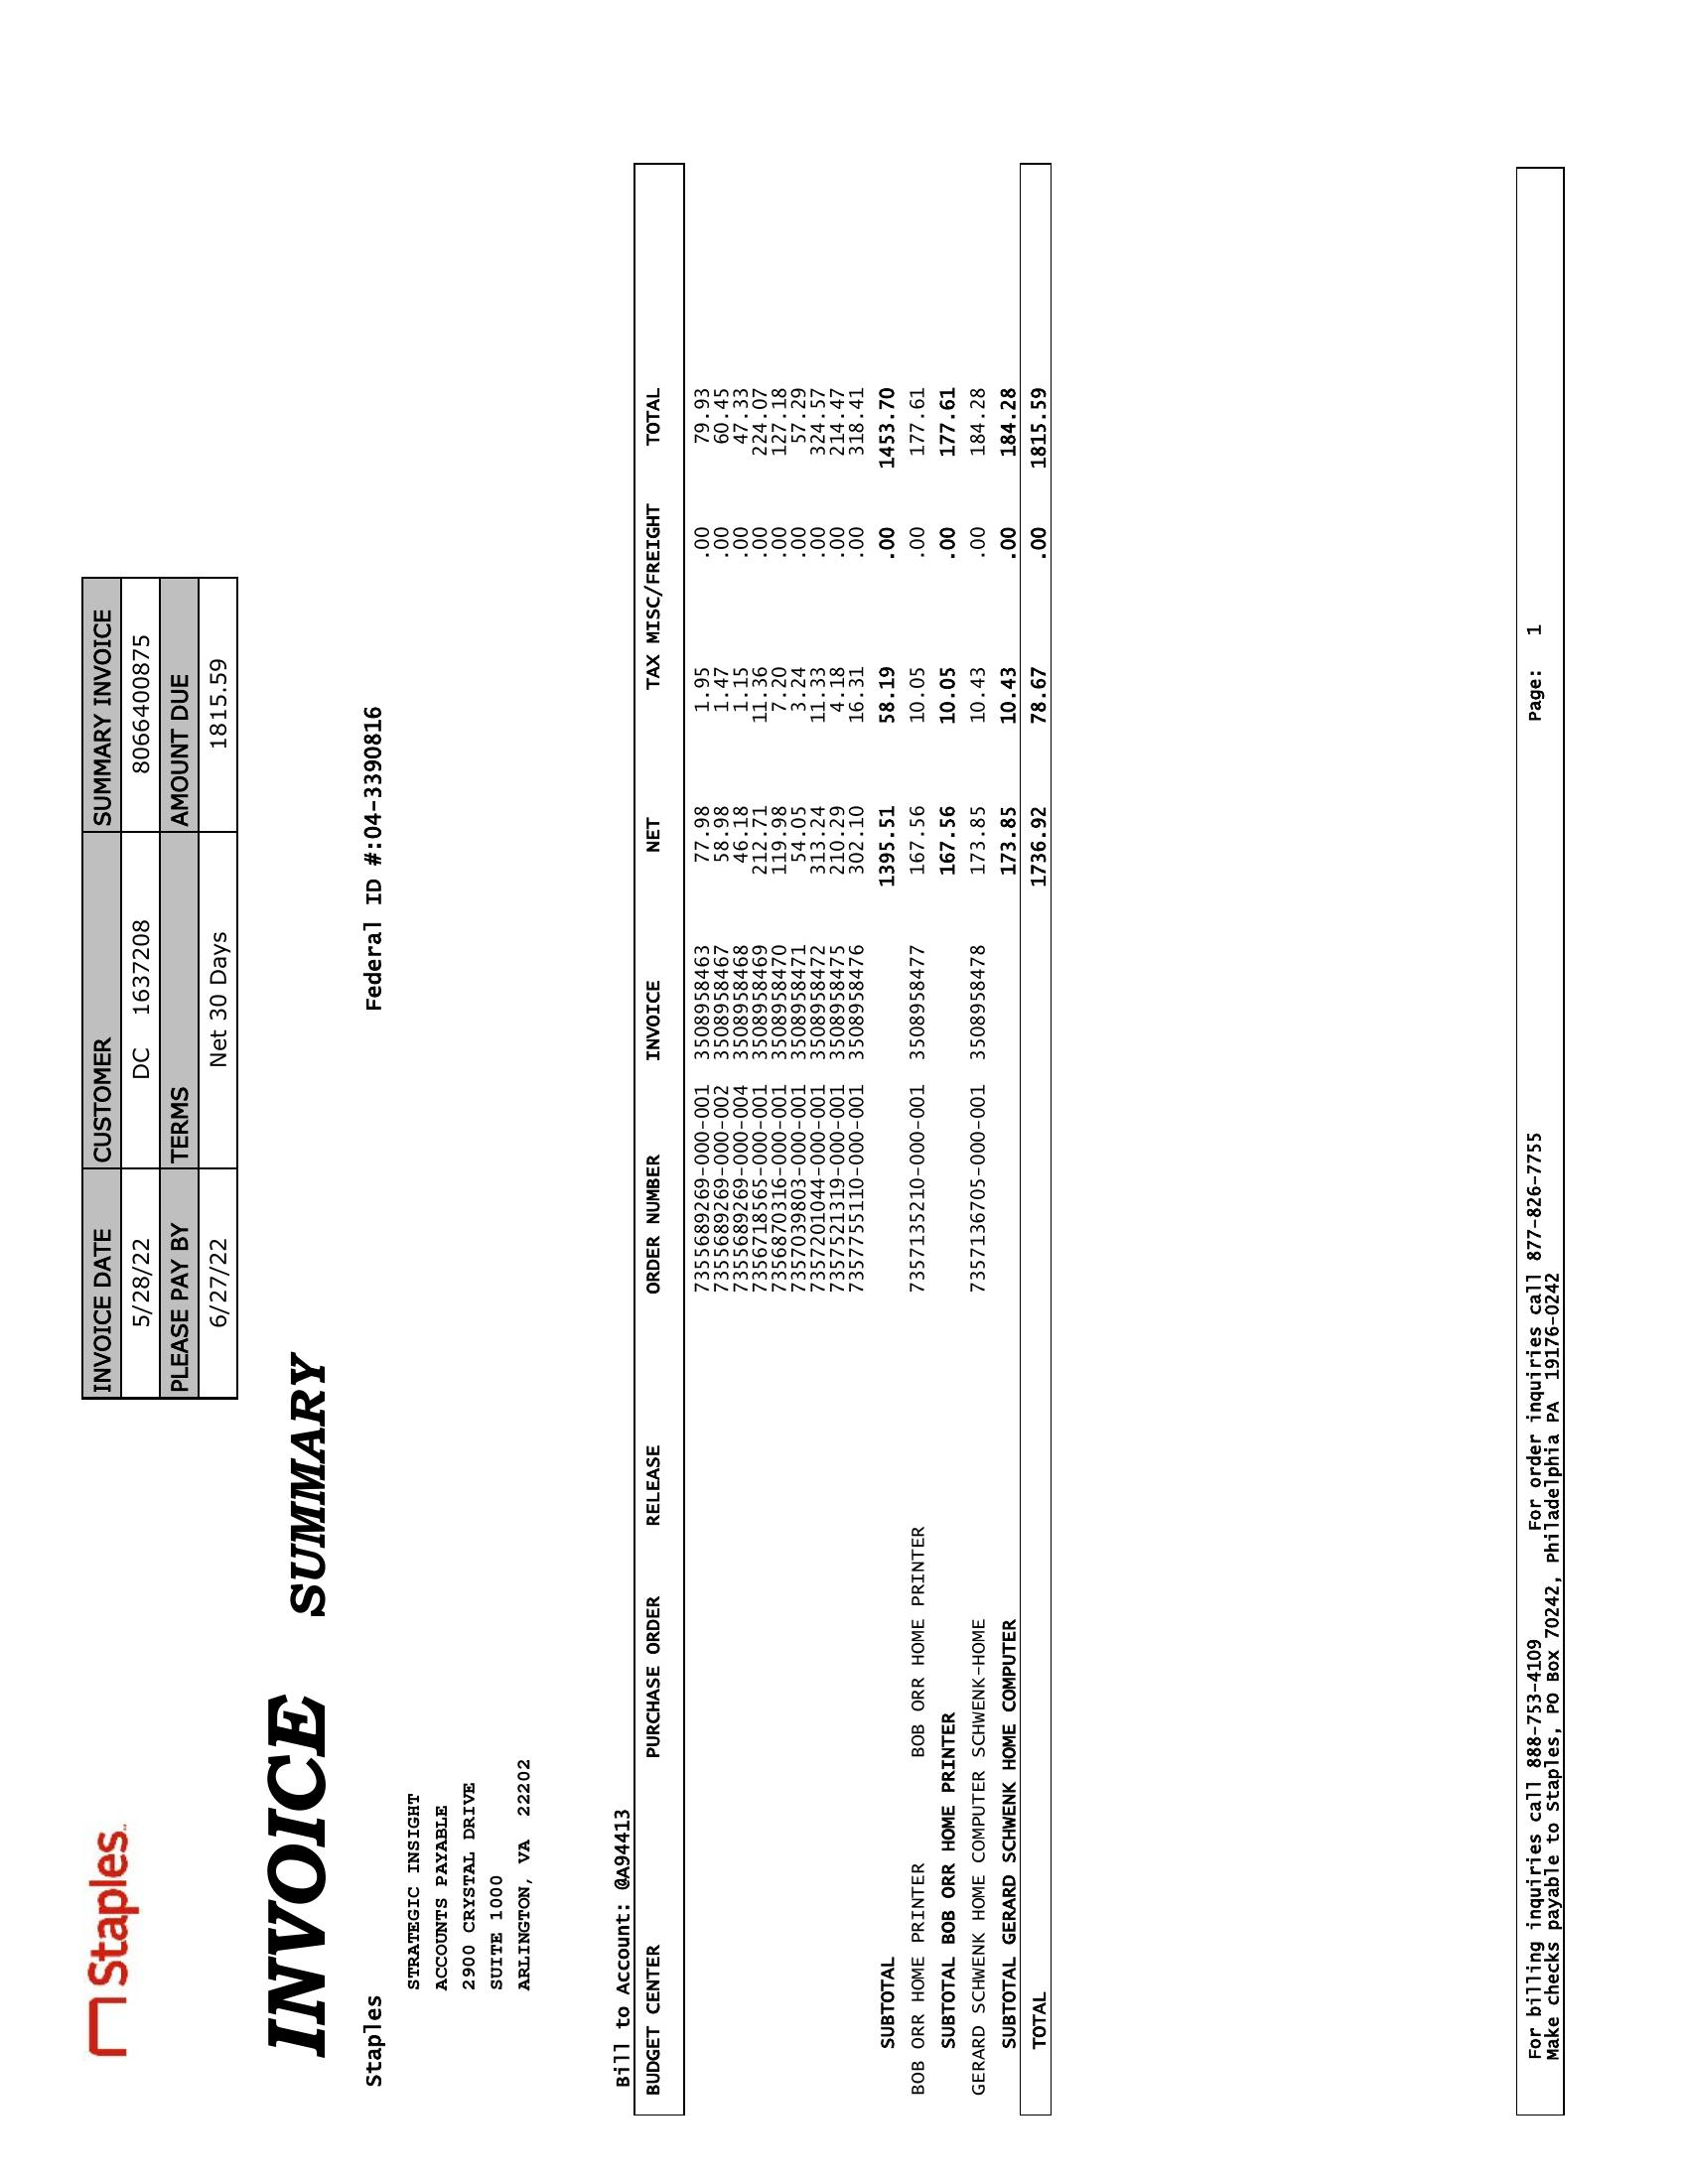table: (621, 138, 1073, 2124), (67, 557, 252, 1411)
